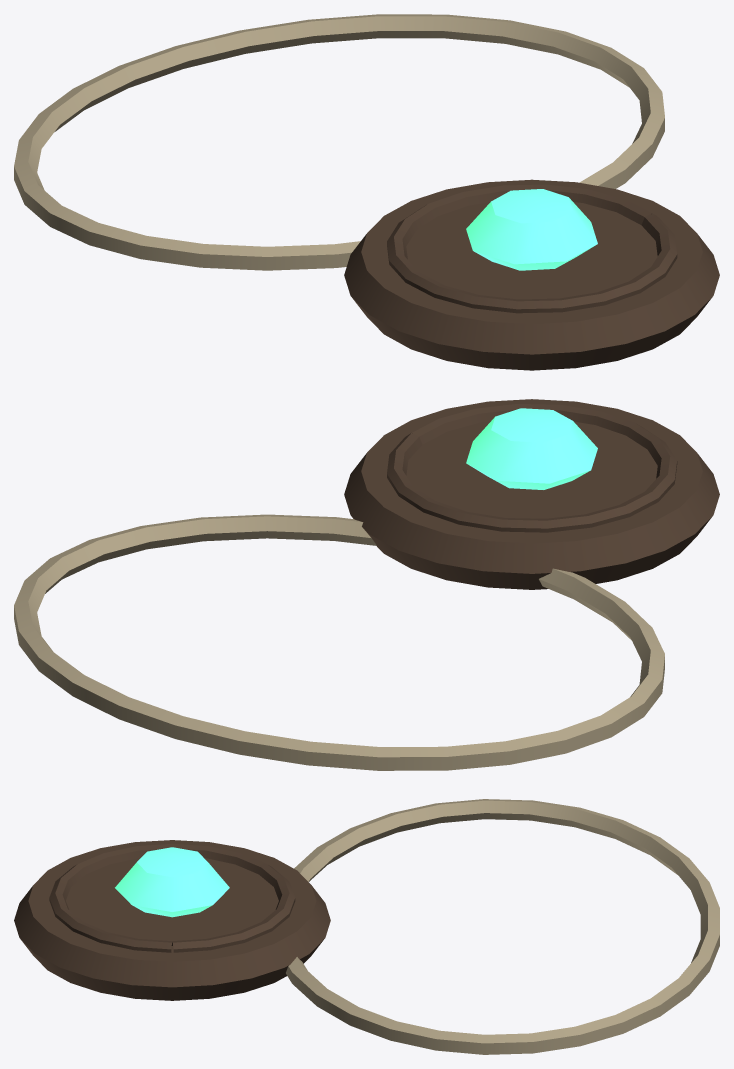
File: tc_wildroot_pendant.glb
3 views of the same model, one above another, from view 1: azimuth 30°, elevation 25°; view 2: azimuth 150°, elevation 25°; view 3: azimuth 270°, elevation 25° (orthographic). The views are drawn at different scales.
Visible parts, largest first — view 1: tc_wildroot_pendant; view 2: tc_wildroot_pendant; view 3: tc_wildroot_pendant.
Part boxes in pixels (left/top/right/bottom): tc_wildroot_pendant: left=14, top=14, right=719, bottom=370; tc_wildroot_pendant: left=14, top=399, right=719, bottom=770; tc_wildroot_pendant: left=14, top=799, right=719, bottom=1054.
Bounding box in the file's own units: 0.0803 × 0.013 × 0.098.
